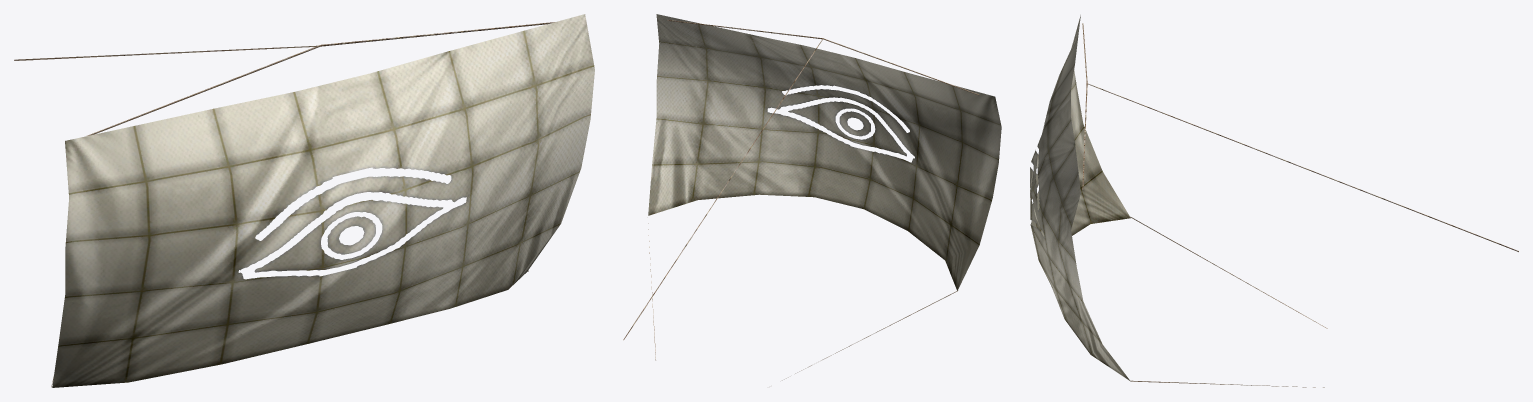
Rendered from hele_trireme_mainsail.dae.
3 views of the same model, side by side, from view 1: azimuth 30°, elevation 25°; view 2: azimuth 150°, elevation 25°; view 3: azimuth 270°, elevation 25° (orthographic). The views are drawn at different scales.
Visible parts, largest first — view 1: Plane; view 2: Plane; view 3: Plane.
Boxes of the visible parts, x1,y1,x2,y2 form: Plane: (14,14,594,387); Plane: (623,14,1001,380); Plane: (1030,15,1518,387).
Size of the model in its own units: 19.23 by 13.66 by 21.95.
